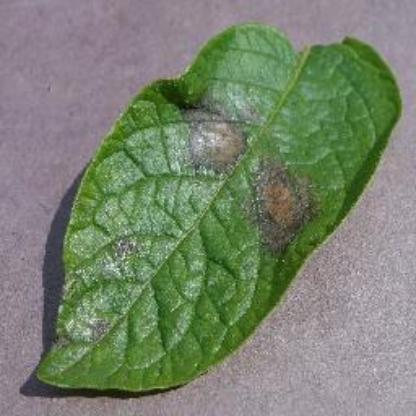Late-Blight: (29, 22, 396, 374)
